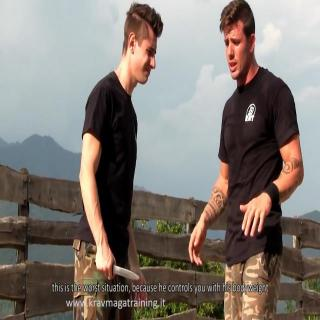knife: (92, 255, 140, 283)
